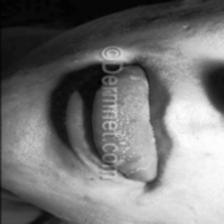Toxin: (109, 156, 131, 167), (125, 72, 141, 82)
